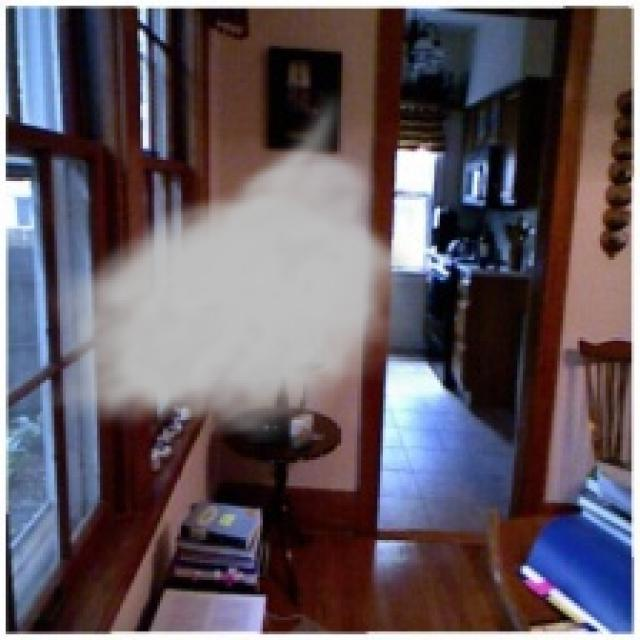Smoke: (34, 86, 420, 443)
